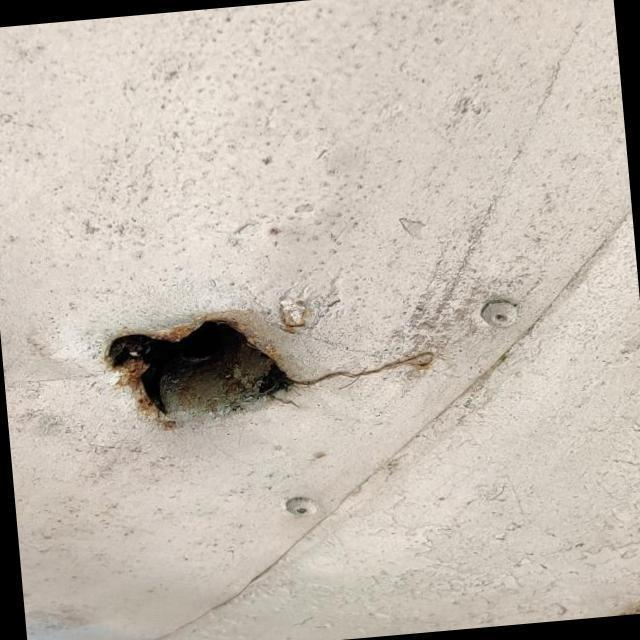Rupture: (82, 266, 453, 447)
